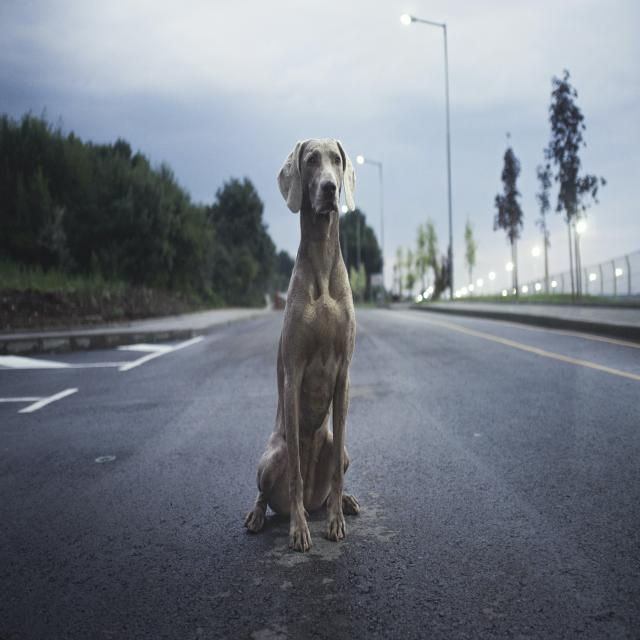Street Light: (399, 12, 454, 300), (356, 156, 385, 296), (532, 246, 550, 292), (577, 222, 586, 294), (506, 262, 518, 296)
